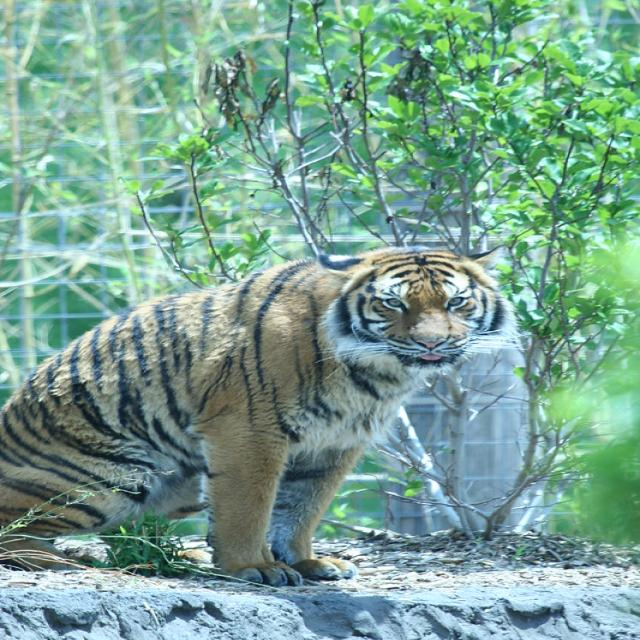Tiger: (0, 242, 524, 591)
